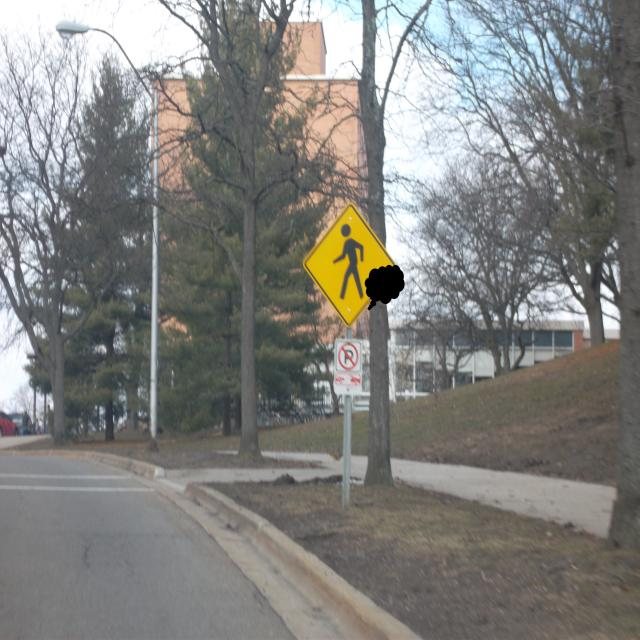regulatory: (331, 338, 364, 373)
warning: (302, 202, 401, 326)
